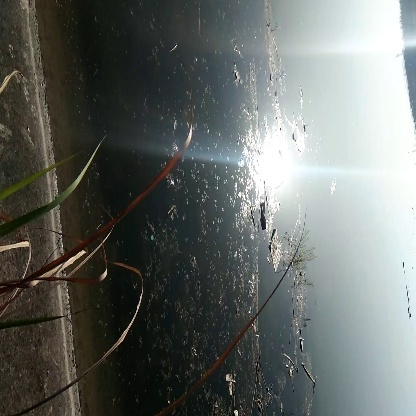plastic-garbage: (266, 223, 287, 272)
